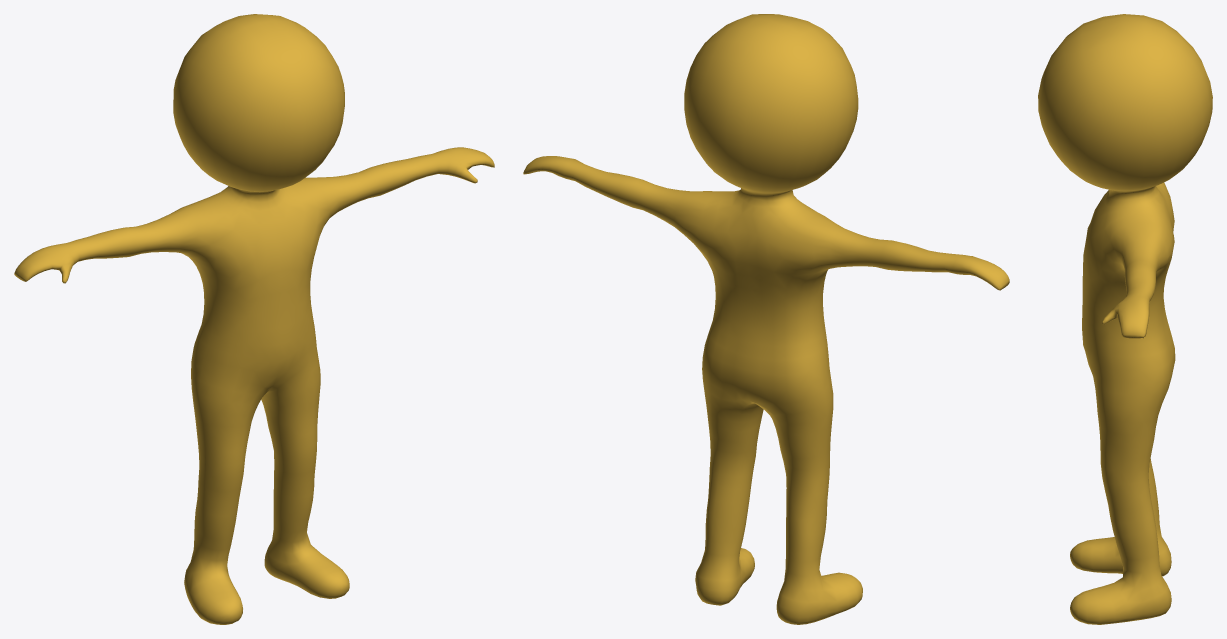
The picture shows the model from 3 angles, left to right: view 1: azimuth 30°, elevation 25°; view 2: azimuth 150°, elevation 25°; view 3: azimuth 270°, elevation 25°; orthographic projection.
Visible parts, largest first — view 1: base; view 2: base; view 3: base.
Part boxes in pixels (box(x1,y1,x2,y2)): base: box(14, 14, 494, 624); base: box(523, 14, 1009, 624); base: box(1038, 14, 1212, 624).
Size of the model in its own units: 1.55 by 0.4999 by 1.8.
